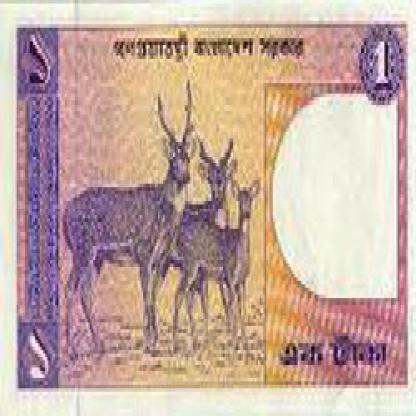One Taka: (276, 330, 388, 374), (16, 28, 56, 94), (20, 319, 57, 388), (371, 35, 396, 94)
